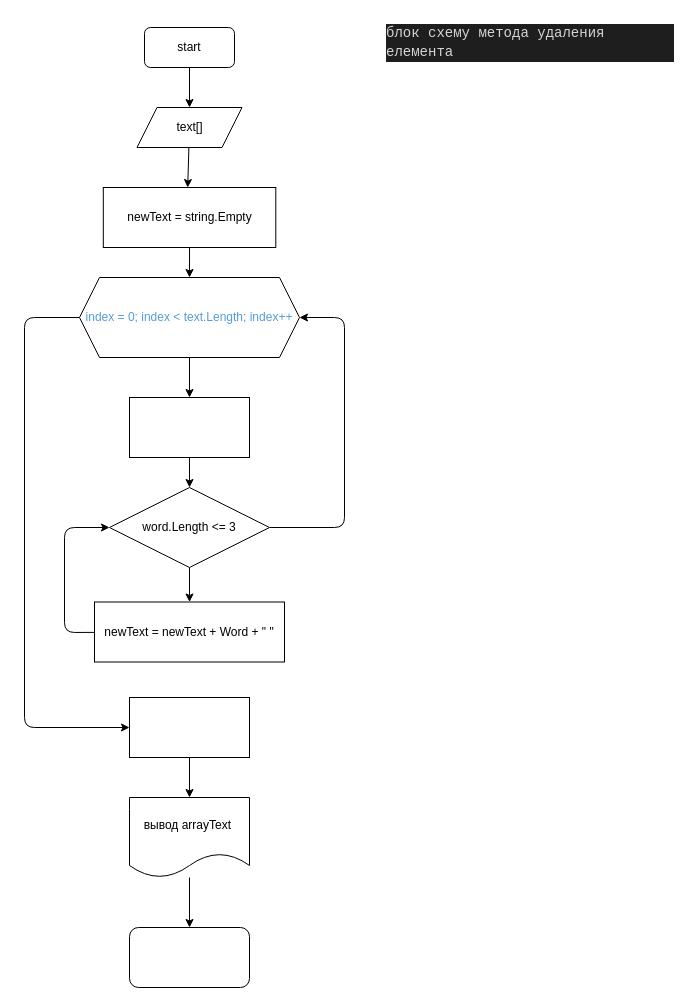
Image size: 692x1005. Some labels were removed from this diagram. The shapes that lost their labels are listed below. From the top down, each one's box as (x1, y1, x2, y2) in pixels, then its label:
(128, 396, 250, 458): Word = text[index]
(128, 696, 250, 758): arrayText = newText.Split(' ')
(128, 926, 250, 988): stop
